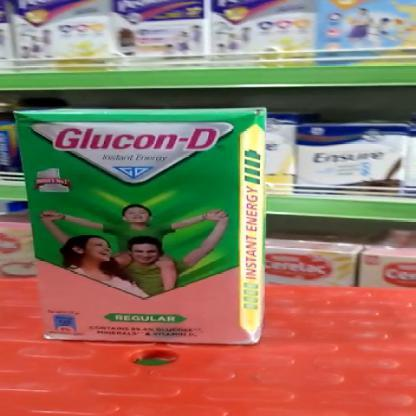Glucon D Regular 1-KG: (22, 110, 246, 342)
